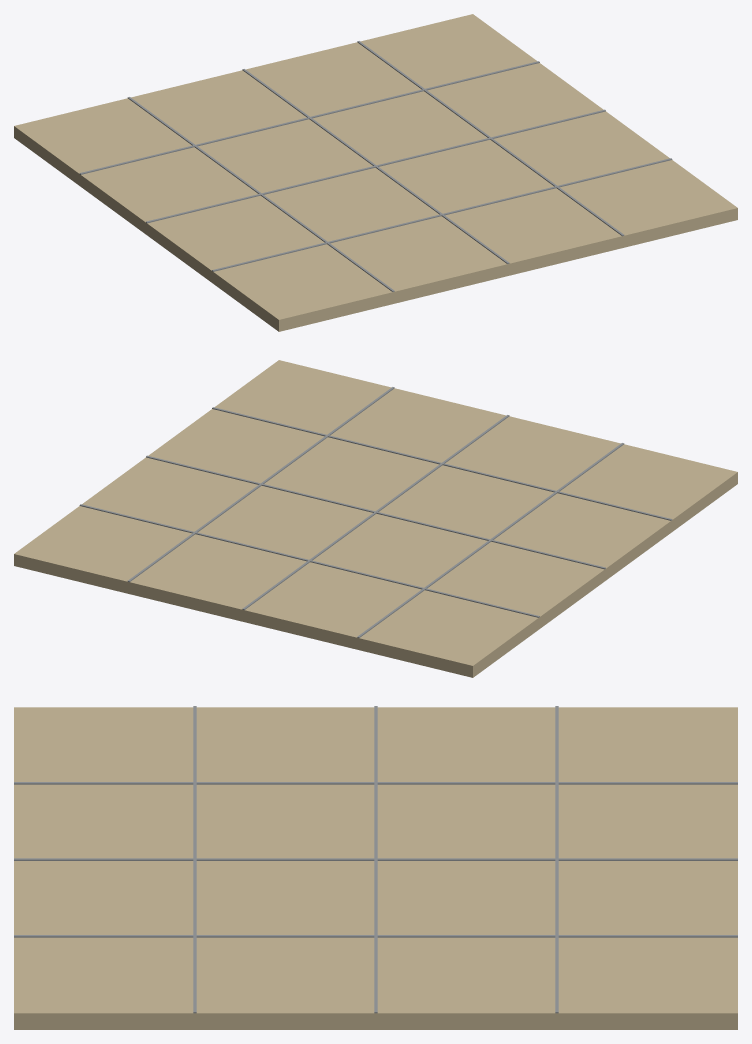
Rendered from sidewalk.glb.
3 renders of one model, top to bottom at view 1: azimuth 30°, elevation 25°; view 2: azimuth 150°, elevation 25°; view 3: azimuth 270°, elevation 25°, orthographic. The views are drawn at different scales.
Visible parts, largest first — view 1: tile, paver_joint.001, paver_joint.005, paver_joint.003, paver_joint, paver_joint.002, paver_joint.004; view 2: tile, paver_joint.001, paver_joint.005, paver_joint.003, paver_joint, paver_joint.002, paver_joint.004; view 3: tile, paver_joint, paver_joint.004, paver_joint.002, paver_joint.005, paver_joint.001, paver_joint.003.
Boxes of the visible parts, x1=… form: tile: x1=14, y1=14, x2=737, y2=331; paver_joint.001: x1=212, y1=158, x2=672, y2=271; paver_joint.005: x1=79, y1=61, x2=539, y2=174; paver_joint.003: x1=146, y1=109, x2=605, y2=223; paver_joint: x1=127, y1=97, x2=394, y2=291; paver_joint.002: x1=242, y1=69, x2=509, y2=263; paver_joint.004: x1=357, y1=41, x2=624, y2=236; tile: x1=14, y1=360, x2=737, y2=677; paver_joint.001: x1=212, y1=407, x2=672, y2=520; paver_joint.005: x1=79, y1=504, x2=539, y2=617; paver_joint.003: x1=146, y1=455, x2=605, y2=569; paver_joint: x1=357, y1=443, x2=624, y2=637; paver_joint.002: x1=242, y1=415, x2=509, y2=609; paver_joint.004: x1=127, y1=387, x2=394, y2=582; tile: x1=14, y1=707, x2=737, y2=1029; paver_joint: x1=14, y1=782, x2=737, y2=784; paver_joint.004: x1=14, y1=935, x2=737, y2=937; paver_joint.002: x1=14, y1=858, x2=737, y2=860; paver_joint.005: x1=555, y1=706, x2=558, y2=1013; paver_joint.001: x1=193, y1=706, x2=196, y2=1013; paver_joint.003: x1=374, y1=706, x2=377, y2=1013.
Size of the model in its own units: 4 by 0.108 by 4.
